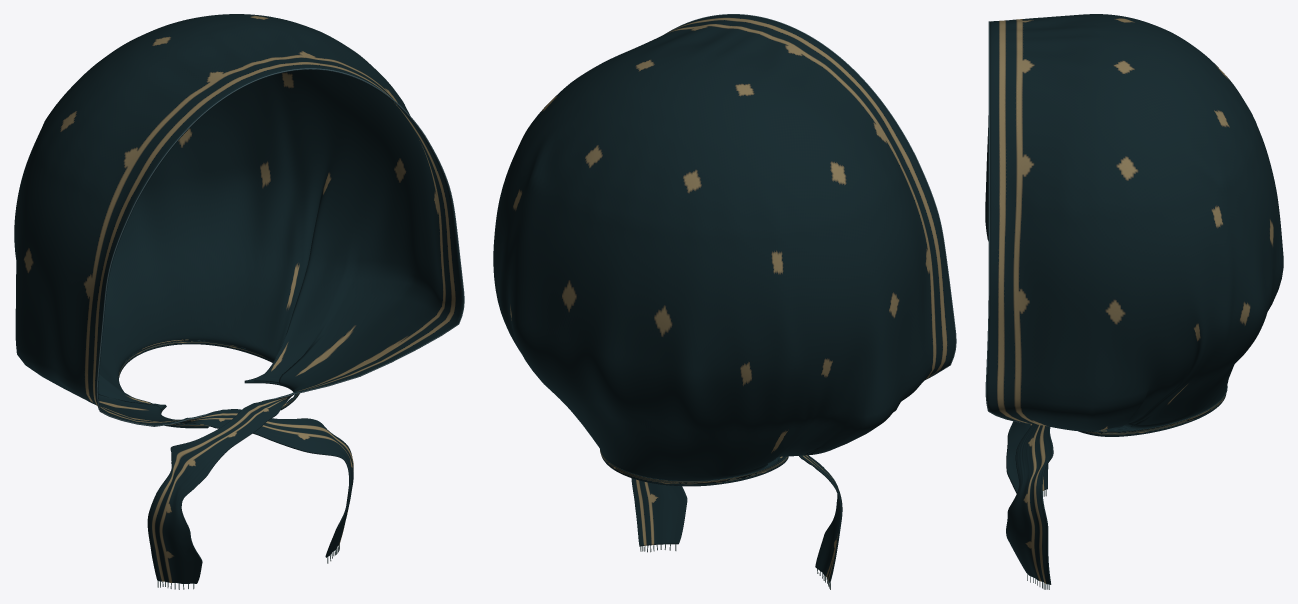
The model's file is Feminine-strappy-gathered-pashmina248-headgear.glb.
3 views of the same model, side by side, from view 1: azimuth 30°, elevation 25°; view 2: azimuth 150°, elevation 25°; view 3: azimuth 270°, elevation 25° (orthographic). The views are drawn at different scales.
Visible parts, largest first — view 1: 226 headgear / Headwear / continuous woven pashmina239, 226 headgear / Headwear / face edge239; view 2: 226 headgear / Headwear / continuous woven pashmina239, 226 headgear / Headwear / face edge239; view 3: 226 headgear / Headwear / continuous woven pashmina239, 226 headgear / Headwear / face edge239.
Part boxes in pixels (x1,y1,x2,y2): 226 headgear / Headwear / continuous woven pashmina239: (14,14,463,583); 226 headgear / Headwear / face edge239: (96,68,464,426); 226 headgear / Headwear / continuous woven pashmina239: (493,14,955,583); 226 headgear / Headwear / face edge239: (664,14,956,379); 226 headgear / Headwear / continuous woven pashmina239: (985,14,1283,584); 226 headgear / Headwear / face edge239: (985,21,1028,423).
Bounding box in the file's own units: 1.02 × 1.35 × 0.7112.
3 materials, 1 textured.
